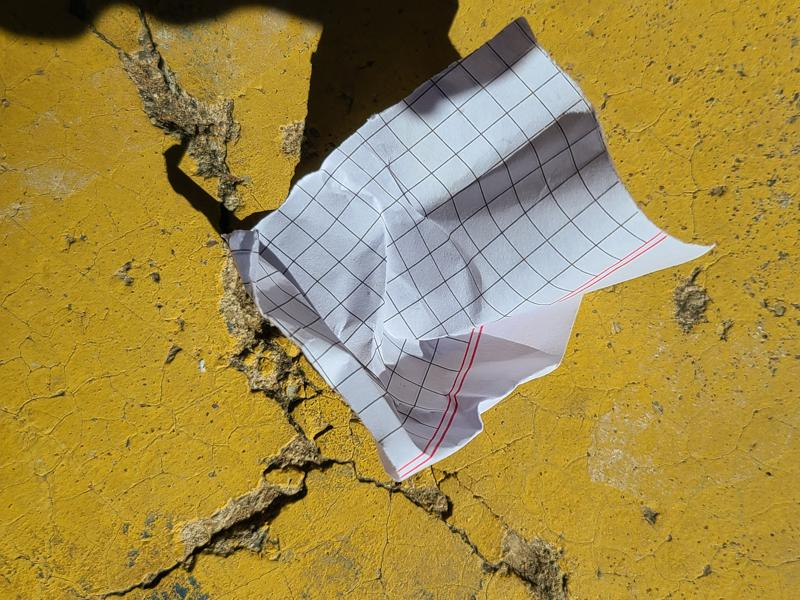papel: (224, 20, 711, 484)
